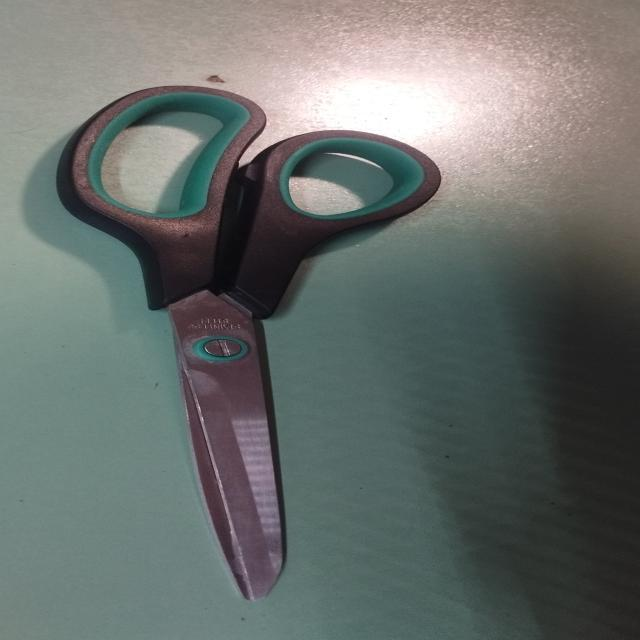tesoura: (46, 75, 452, 610)
